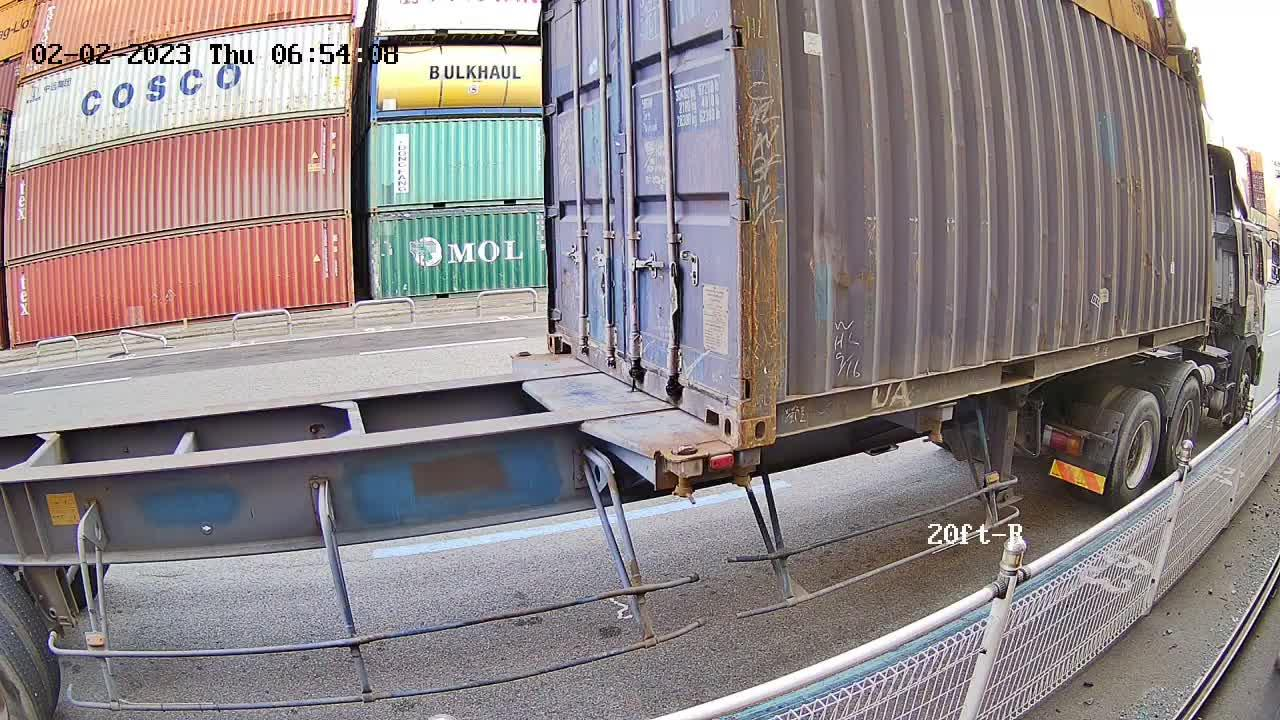Chassis: (510, 353, 707, 462)
Cone: (663, 444, 703, 505), (733, 445, 762, 494)
Hole_L: (738, 373, 807, 449), (546, 306, 580, 361)
Hole_R: (694, 365, 739, 448)
Tire: (1110, 395, 1160, 505), (1166, 377, 1202, 467)
